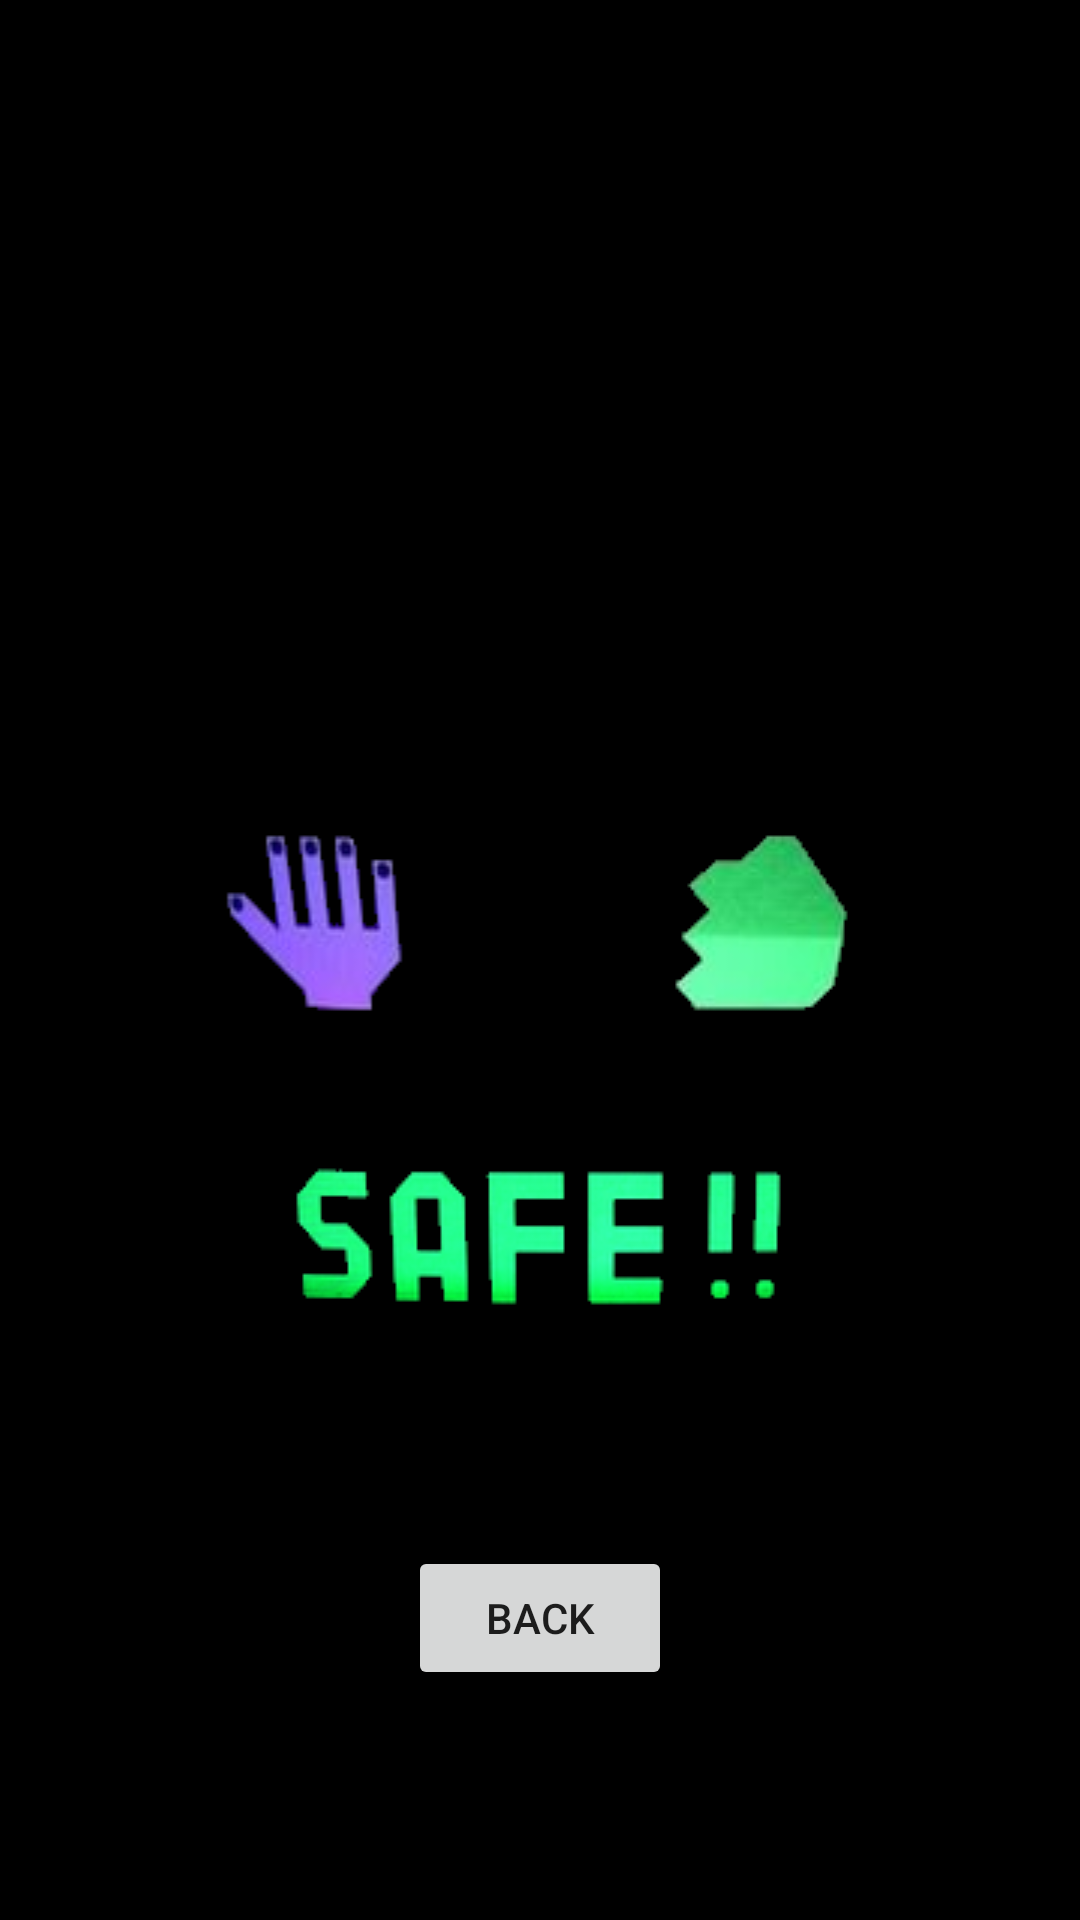

Icon click points for this 1080 x 1920 phone screenshot, format point (x, y):
paper: point (314, 923)
rock: point (761, 923)
